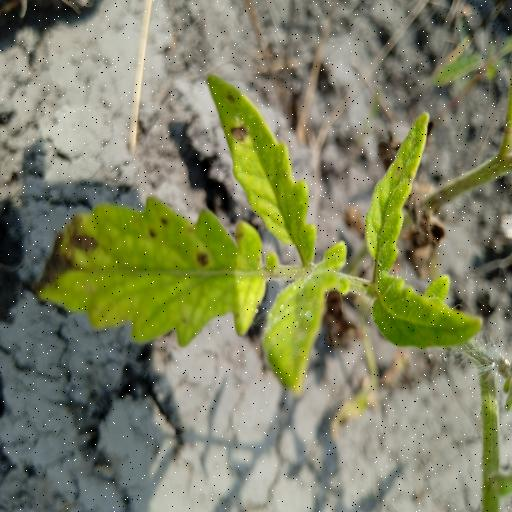Tomato_Brown_Spots: (38, 189, 270, 355), (206, 60, 322, 264)
